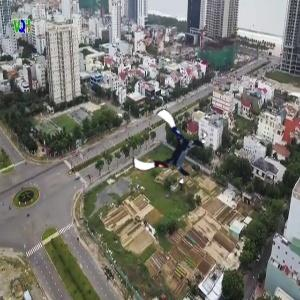drone: (136, 116, 205, 185)
